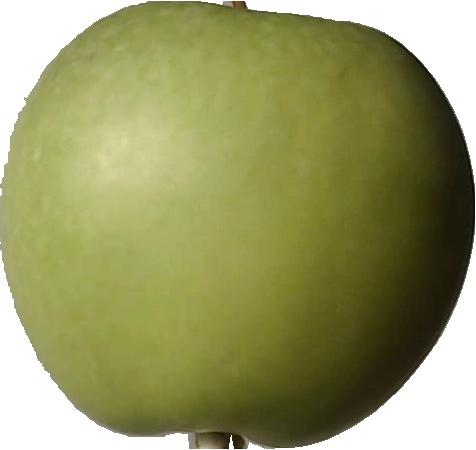Apple Unripe: (0, 0, 476, 440)
